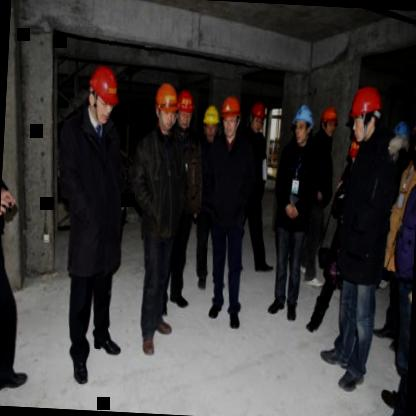helmet: (83, 65, 121, 127), (348, 85, 384, 144), (218, 91, 244, 140), (154, 80, 178, 130), (290, 102, 316, 146), (245, 98, 270, 138), (176, 90, 197, 132), (201, 102, 221, 144), (320, 102, 340, 140)
